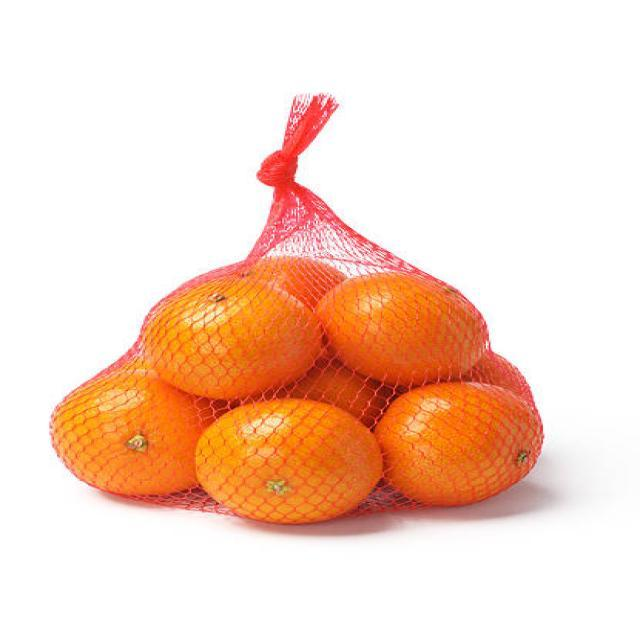Orange: (48, 357, 222, 498), (194, 396, 383, 525), (140, 272, 323, 401), (374, 379, 543, 507), (315, 270, 490, 387)
